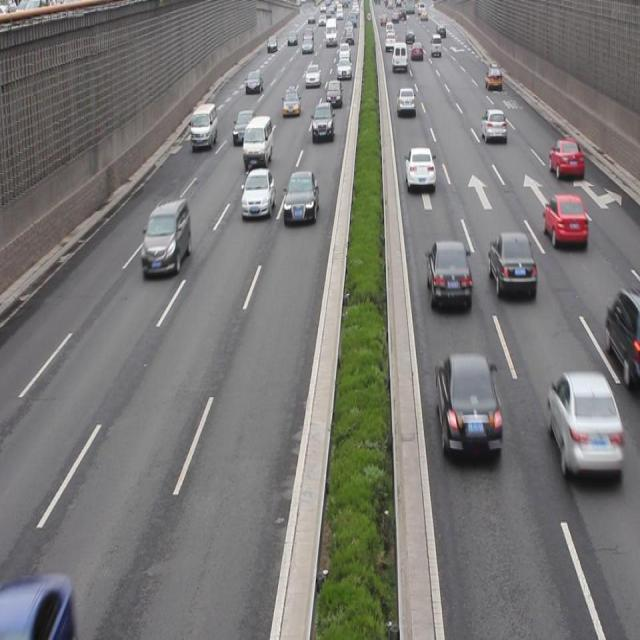car: (546, 370, 620, 485), (433, 353, 502, 467), (1, 577, 71, 632), (424, 237, 472, 315), (142, 201, 190, 275), (487, 231, 536, 300), (542, 195, 587, 252), (283, 171, 318, 224), (241, 166, 274, 218), (547, 135, 583, 180), (403, 146, 436, 192), (480, 108, 506, 144), (311, 103, 333, 142), (233, 110, 256, 144)
truck: (242, 117, 272, 164), (191, 102, 216, 148)
